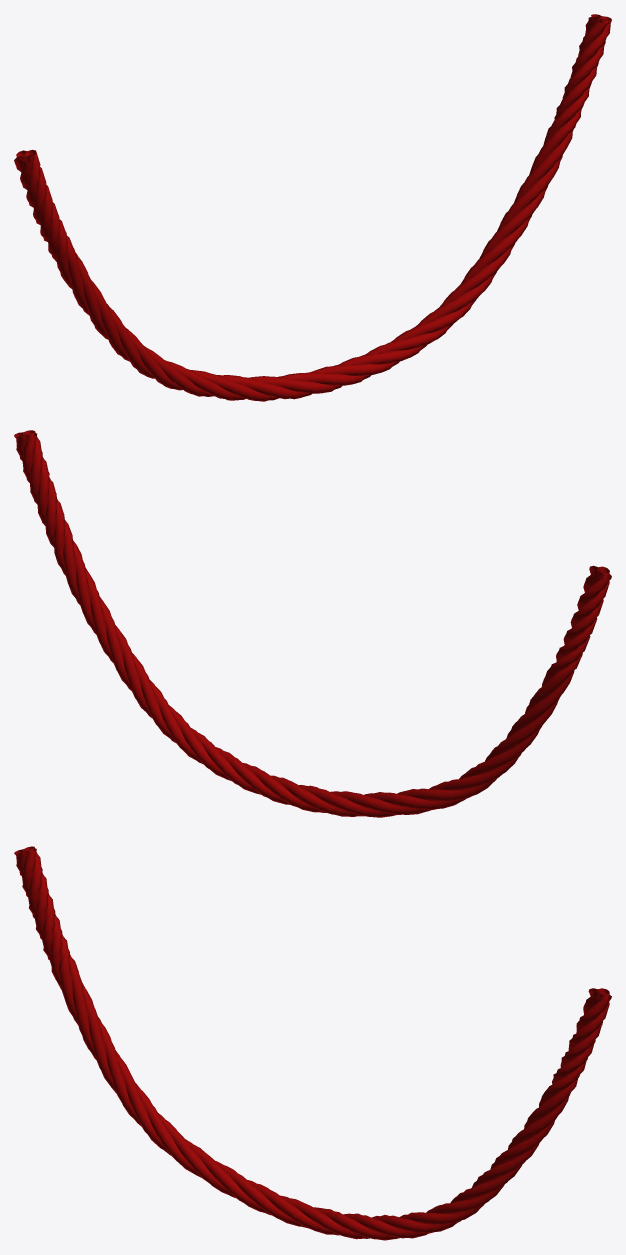
The model's file is rope.fbx.
3 renders of one model, top to bottom at view 1: azimuth 30°, elevation 25°; view 2: azimuth 150°, elevation 25°; view 3: azimuth 330°, elevation 25°, orthographic.
Parts seen in each view (by area): view 1: rope; view 2: rope; view 3: rope.
Boxes of the visible parts, bbox=[...] form: rope: bbox=[14, 14, 611, 401]; rope: bbox=[14, 430, 611, 817]; rope: bbox=[14, 846, 611, 1240].
Bounding box in the file's own units: 107 × 53.26 × 4.
